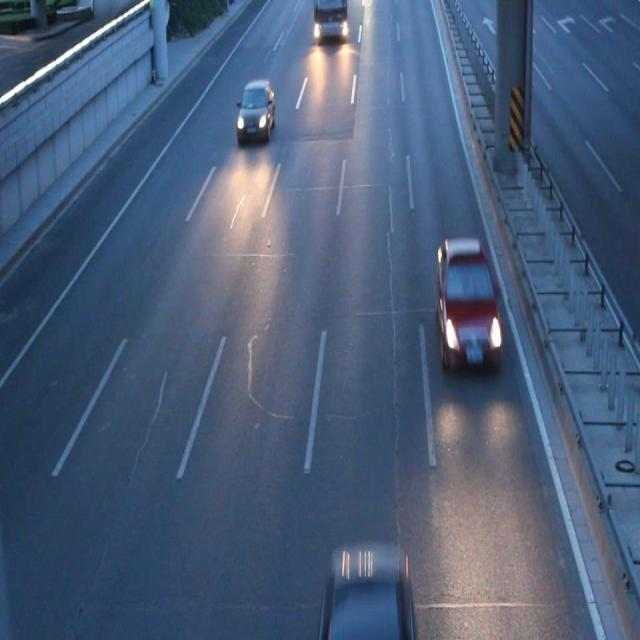car: (434, 238, 502, 372), (321, 550, 414, 640), (235, 80, 275, 142)
van: (313, 1, 347, 44)
